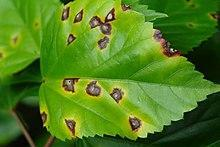black-spot: (60, 74, 141, 133)
